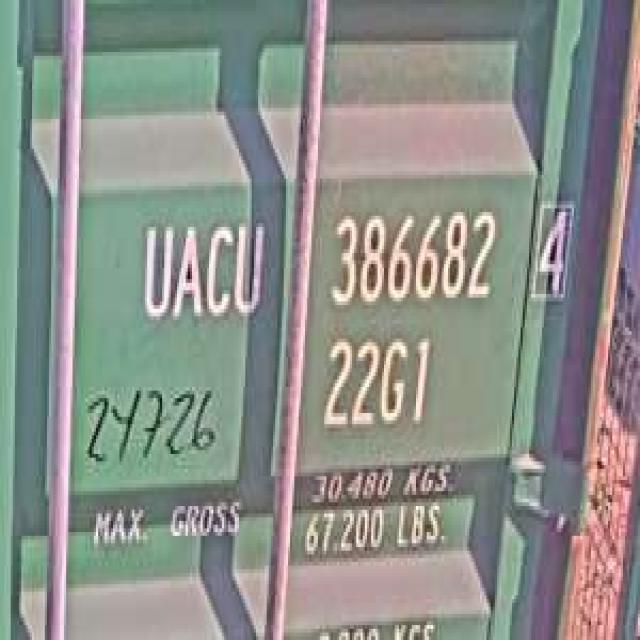dv: (529, 186, 576, 309)
owner: (134, 208, 267, 332)
serial: (322, 197, 501, 316)
size: (316, 331, 433, 443)
